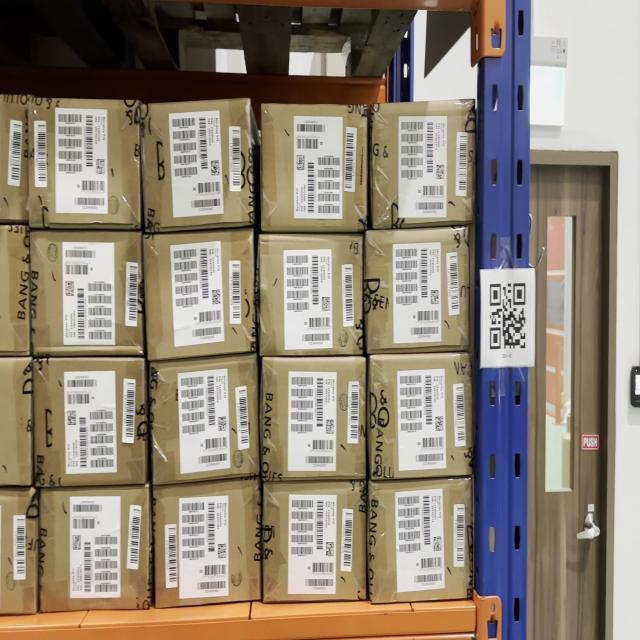box: (27, 100, 140, 230), (34, 361, 144, 488), (261, 103, 368, 227), (146, 104, 252, 228), (29, 237, 141, 353), (146, 237, 252, 357), (39, 494, 144, 612), (264, 358, 365, 480), (372, 355, 472, 478), (151, 367, 255, 483), (156, 490, 258, 606), (369, 237, 473, 349), (264, 487, 364, 602), (263, 234, 362, 349), (375, 108, 472, 225), (371, 488, 470, 597)
